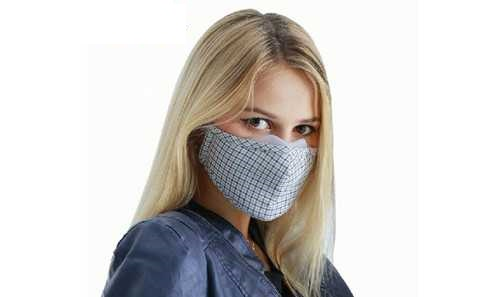face_mask: (199, 63, 325, 223)
